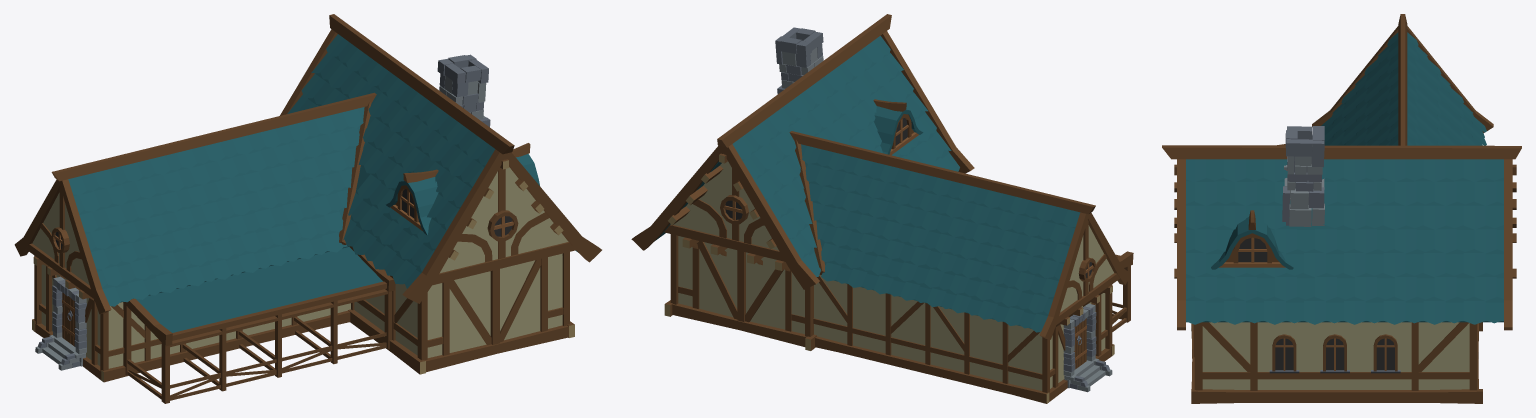
Rendered from Fantasy Stable.glb.
The picture shows the model from 3 angles, left to right: view 1: azimuth 30°, elevation 25°; view 2: azimuth 150°, elevation 25°; view 3: azimuth 270°, elevation 25°; orthographic projection. The views are drawn at different scales.
Parts seen in each view (by area): view 1: Stable; view 2: Stable; view 3: Stable.
Boxes of the visible parts, bbox=[...] form: Stable: bbox=[14, 14, 601, 403]; Stable: bbox=[631, 14, 1133, 403]; Stable: bbox=[1162, 14, 1521, 403].
Size of the model in its own units: 4.7 by 2.49 by 3.33.
